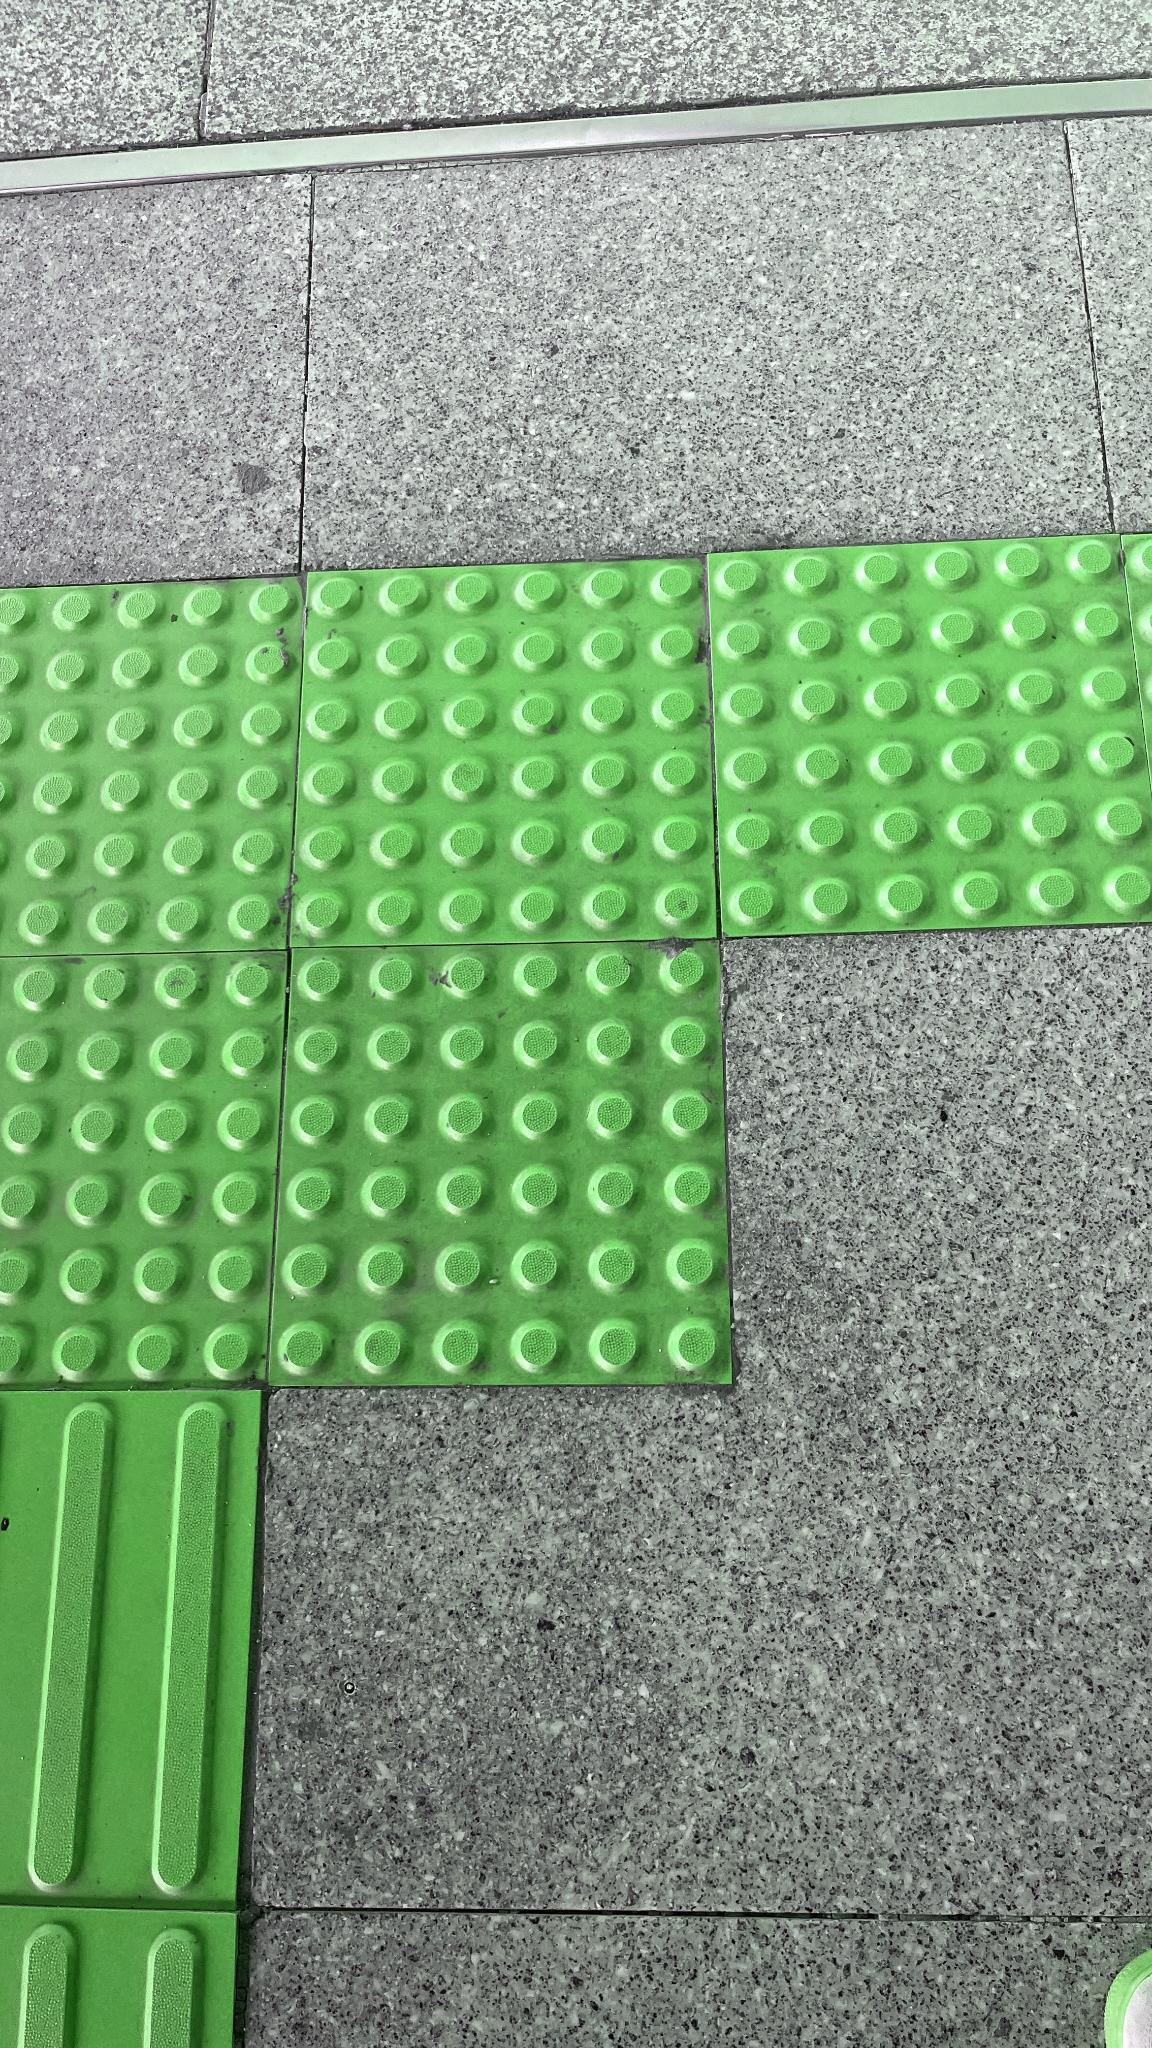Stop block normal: (271, 944, 731, 1381)
